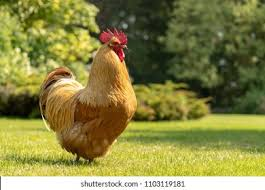buff: (39, 29, 144, 172)
